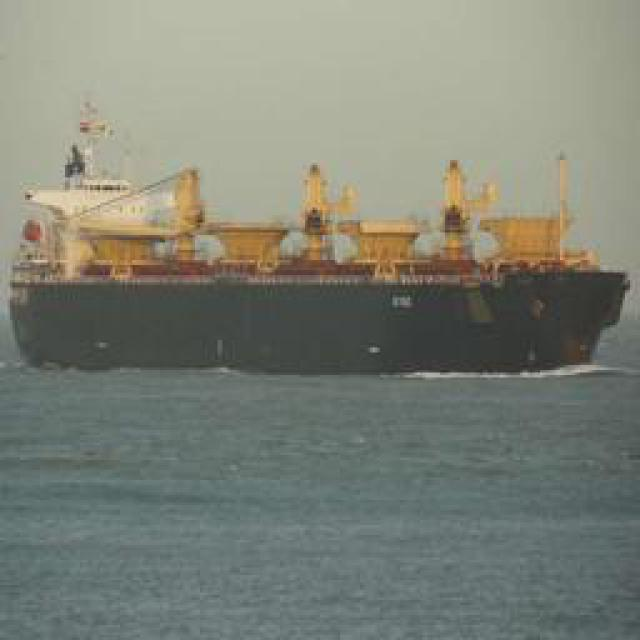Ship: (4, 166, 639, 376)
